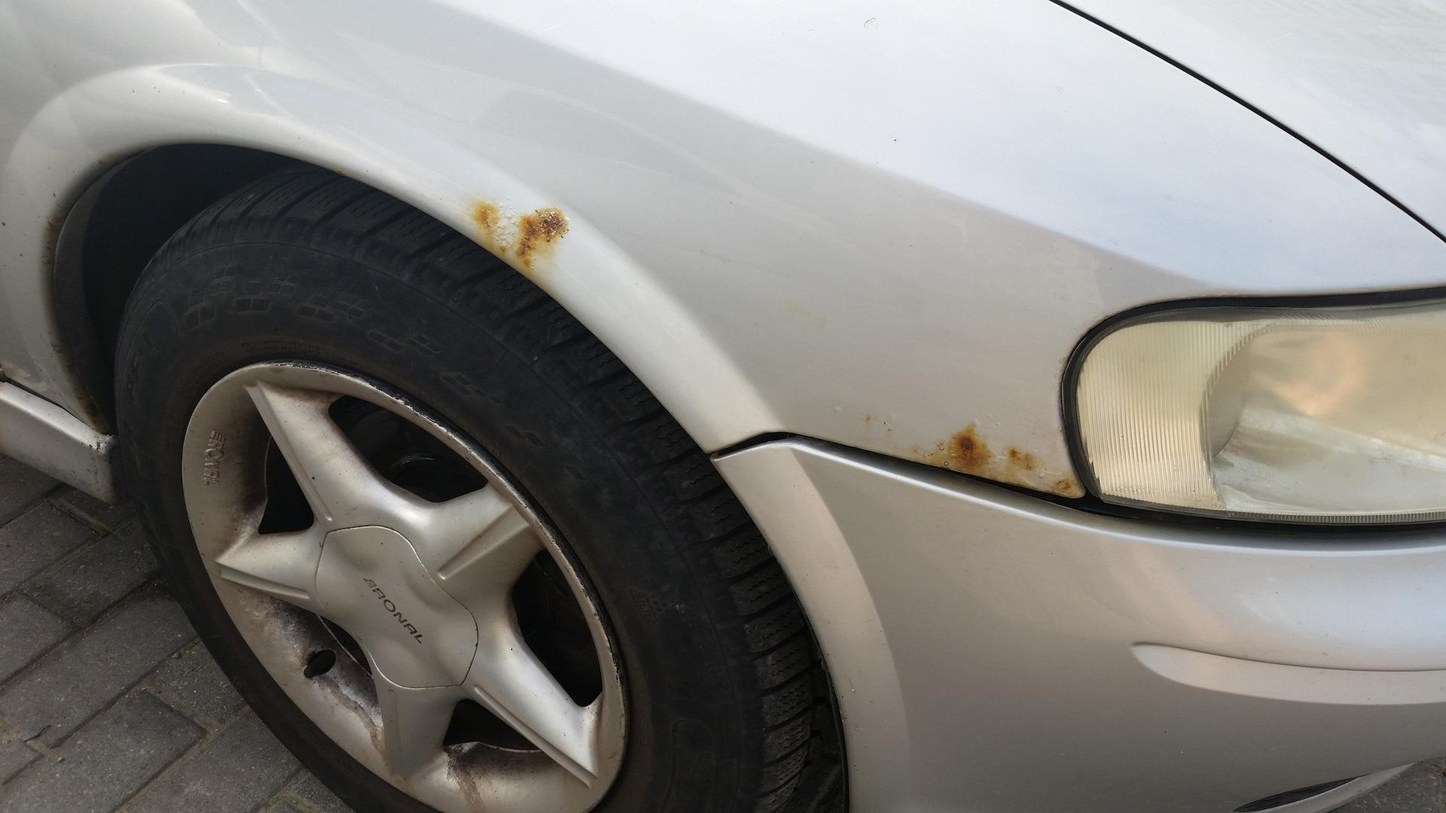corrosion: (913, 425, 1082, 498), (467, 201, 572, 278)
